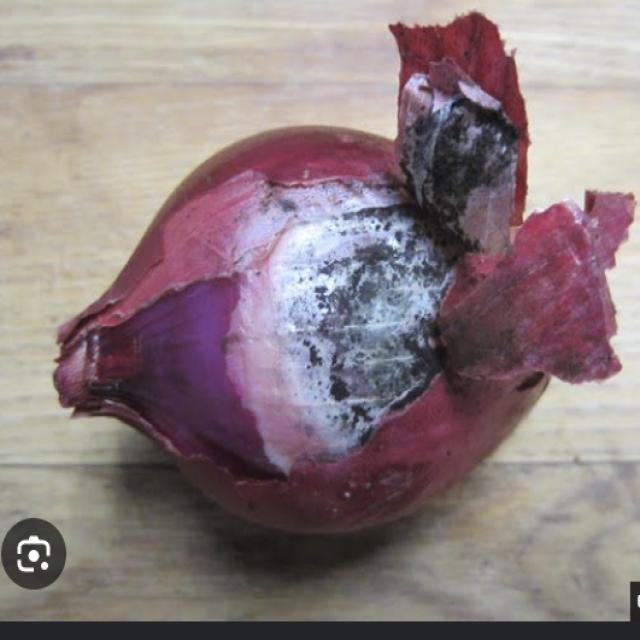mechanical_damage: (54, 13, 634, 531)
